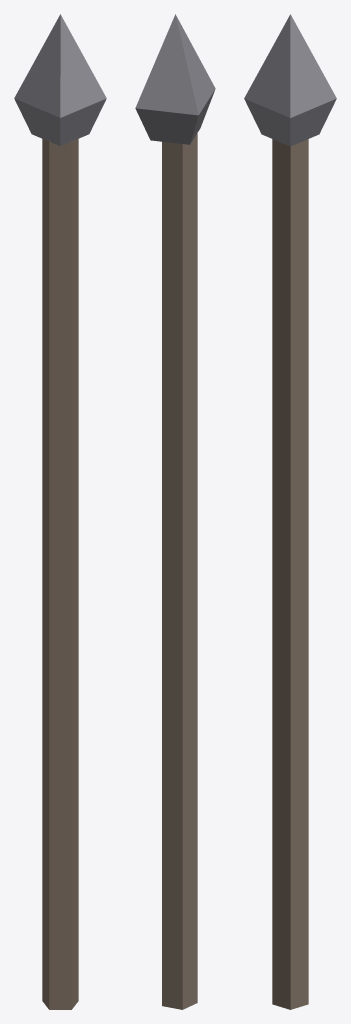
File: _Ballisya_shell.fbx
3 views of the same model, side by side, from view 1: azimuth 90°, elevation 25°; view 2: azimuth 210°, elevation 25°; view 3: azimuth 270°, elevation 25° (orthographic).
Visible parts, largest first — view 1: Ballisya_shell; view 2: Ballisya_shell; view 3: Ballisya_shell.
Part boxes in pixels (left/top/right/bottom): Ballisya_shell: left=14, top=14, right=106, bottom=1009; Ballisya_shell: left=135, top=14, right=215, bottom=1009; Ballisya_shell: left=244, top=14, right=336, bottom=1009.
Size of the model in its own units: 24.22 by 285 by 24.22.
